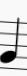note: (1, 14, 20, 73)
